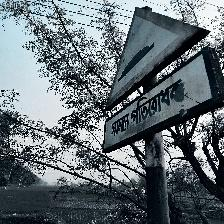Speed-breaker: (102, 6, 222, 156)
